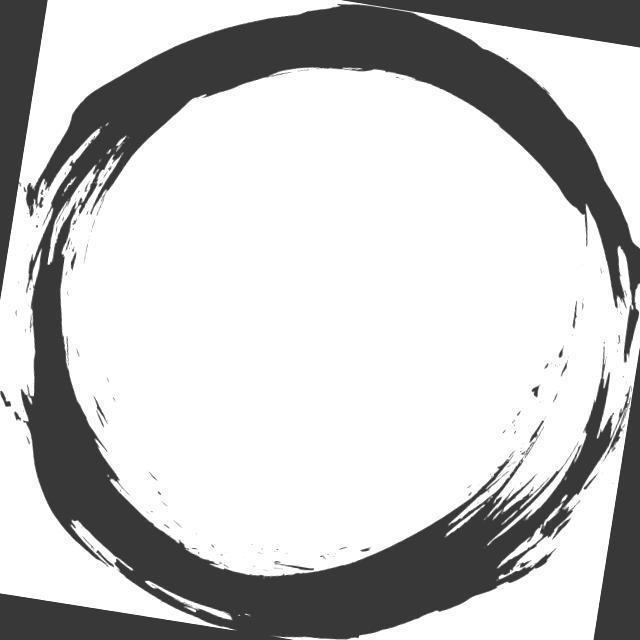Circle: (17, 4, 634, 628)
